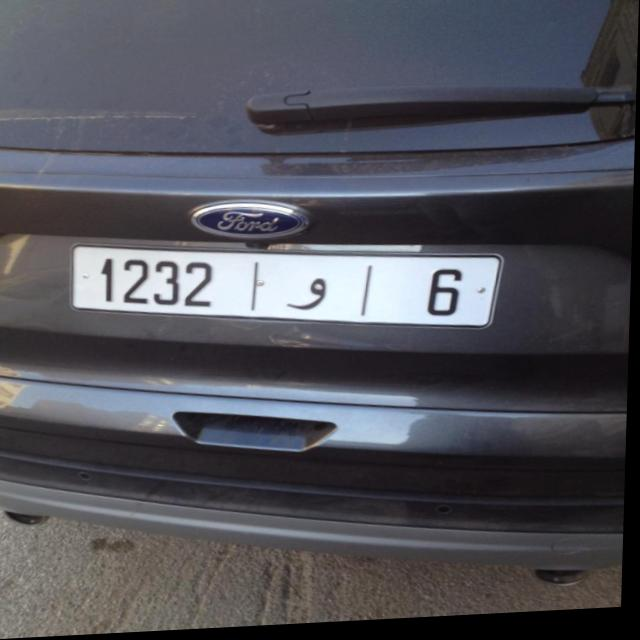License-Plate: (73, 245, 503, 332)
